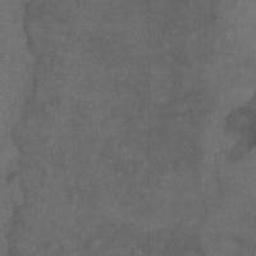Water spot: (5, 0, 221, 255), (221, 91, 256, 165)
